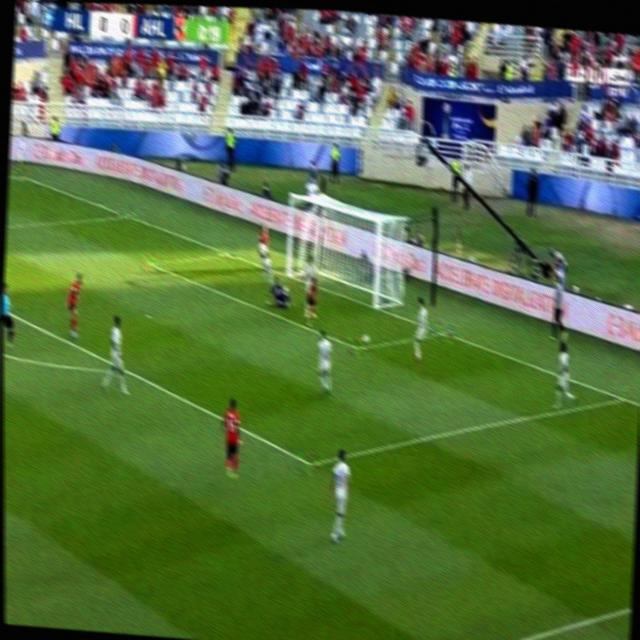bigarea_bottom_inner: (297, 448, 321, 476)
bigarea_bottom_outter: (610, 385, 633, 409)
bigarea_top_outter: (117, 205, 136, 224)
corner: (8, 164, 29, 182)
smallarea_bottom_inner: (347, 335, 367, 358)
smallarea_bottom_outter: (431, 321, 454, 343)
smallarea_top_inner: (140, 253, 163, 272)
smallarea_top_outter: (217, 243, 236, 262)
